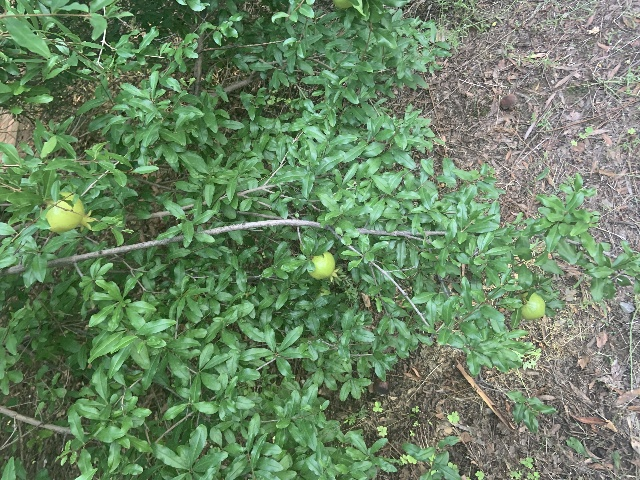mid-growth: (45, 192, 96, 232), (308, 251, 340, 282), (520, 292, 545, 320)
